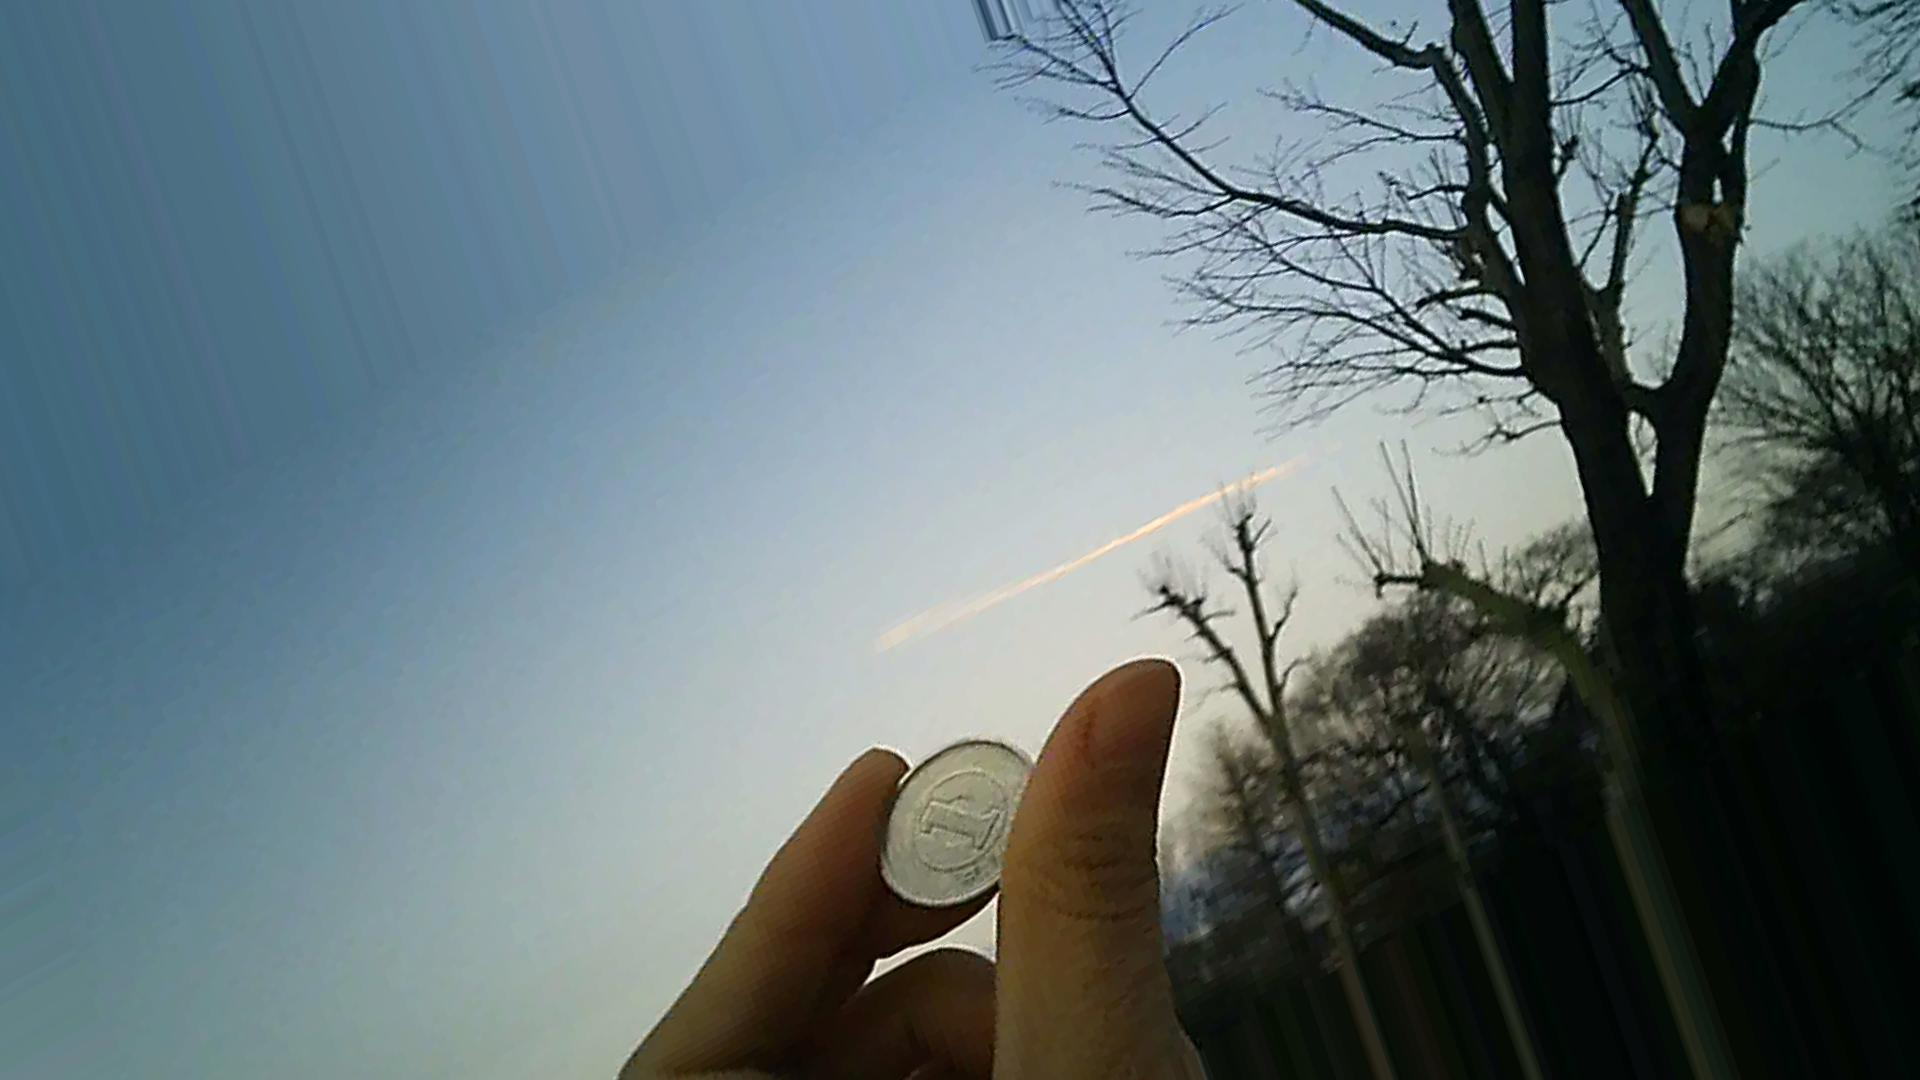1 Yen: (852, 733, 1051, 920)
